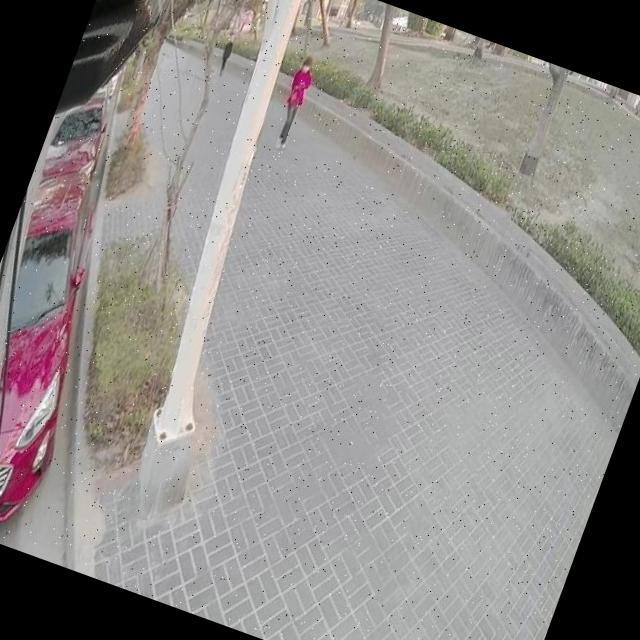person: (270, 52, 322, 152), (216, 36, 238, 76)
